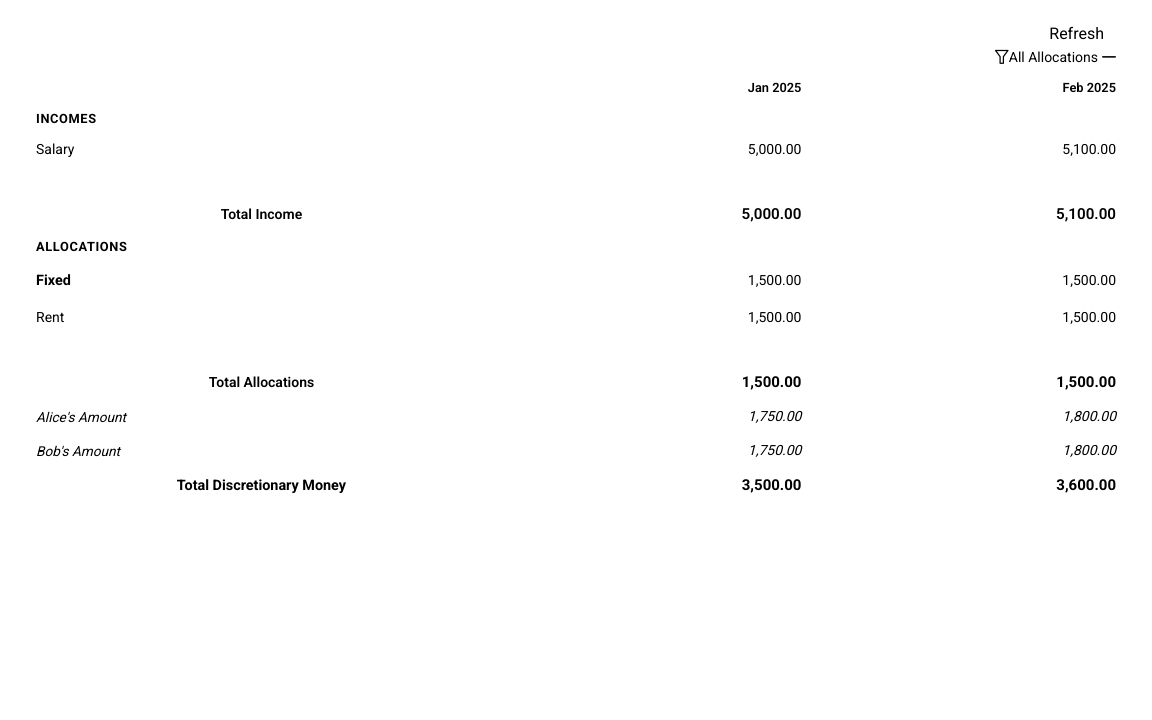
FutureBudgetsPage › variable-only toggle › toggles label to "Variable Only" when clicked
Click the button with test id "variable-only-toggle". click: (1046, 57)
box: [995, 49, 1098, 65]
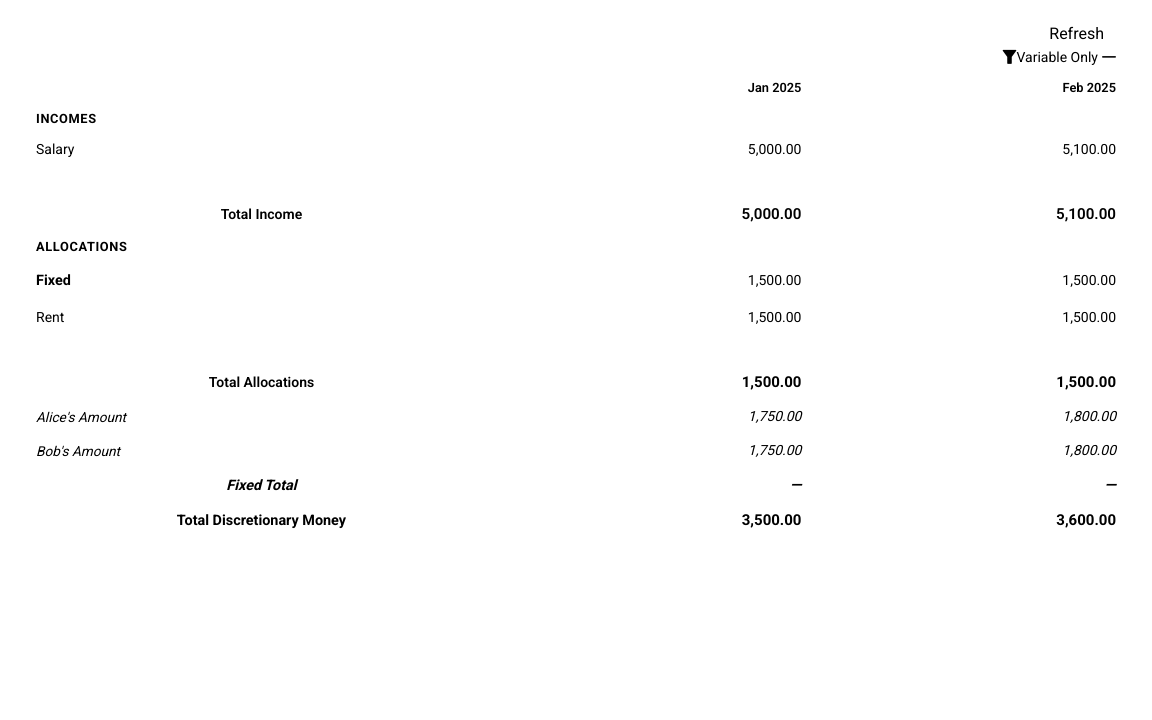
expect the button with test id "variable-only-toggle" reads "Variable Only": met, box [1002, 49, 1098, 65]
